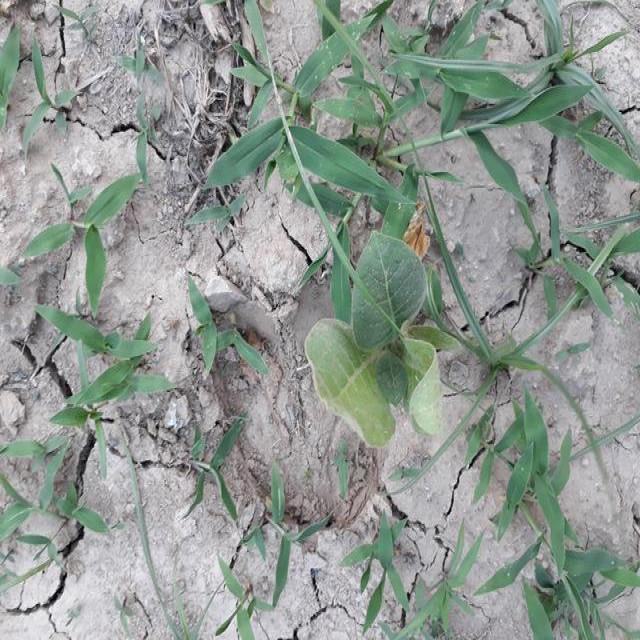crop: (308, 221, 444, 441)
